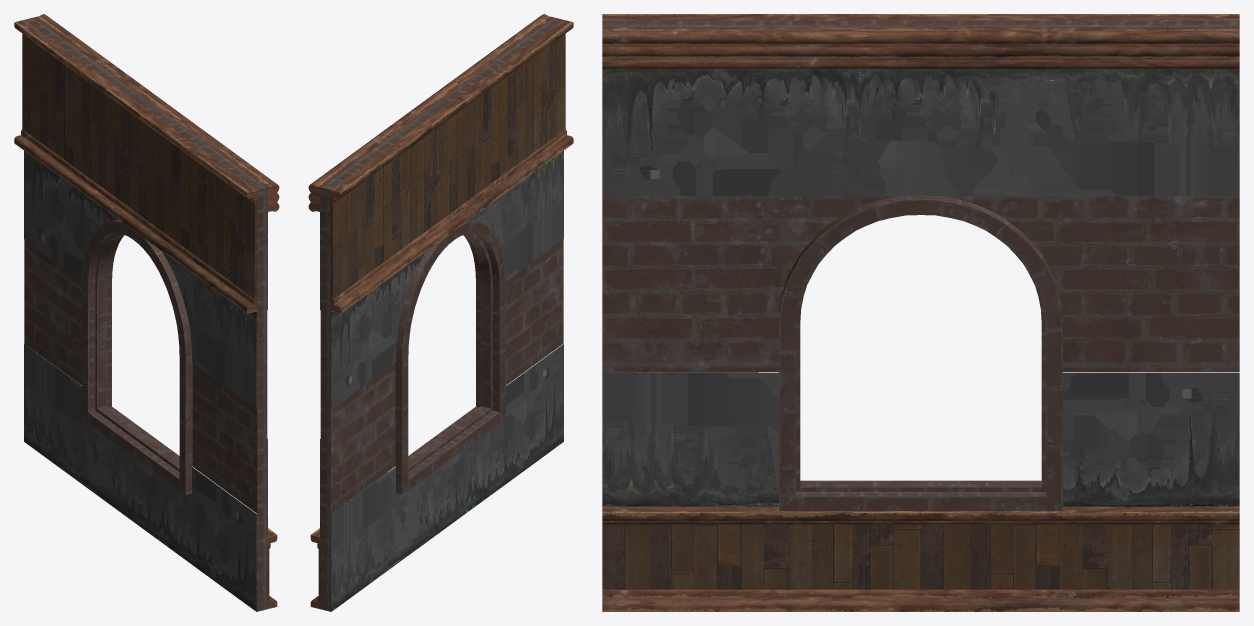
File: Kit_BricksOldWoodWindowOpen.fbx
The picture shows the model from 3 angles, left to right: view 1: azimuth 30°, elevation 25°; view 2: azimuth 150°, elevation 25°; view 3: azimuth 270°, elevation 25°; orthographic projection. The views are drawn at different scales.
Visible parts, largest first — view 1: Kit_BricksOldWoodWindowOpen; view 2: Kit_BricksOldWoodWindowOpen; view 3: Kit_BricksOldWoodWindowOpen.
Boxes of the visible parts, x1,y1,x2,y2 form: Kit_BricksOldWoodWindowOpen: (14,14,279,611); Kit_BricksOldWoodWindowOpen: (308,14,573,611); Kit_BricksOldWoodWindowOpen: (602,14,1239,611).
Bounding box in the file's own units: 12.68 × 158 × 157.
